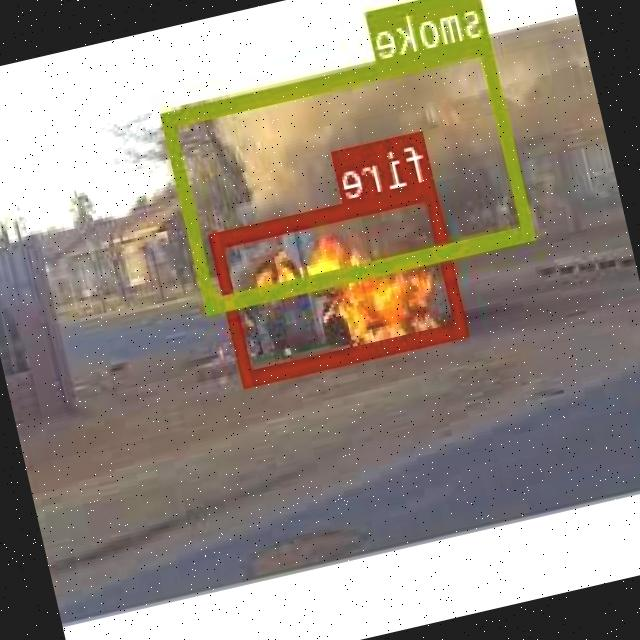fire: (211, 179, 471, 382)
smoke: (162, 34, 538, 312)
